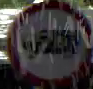Heavy Vehicles: (7, 0, 92, 80)
